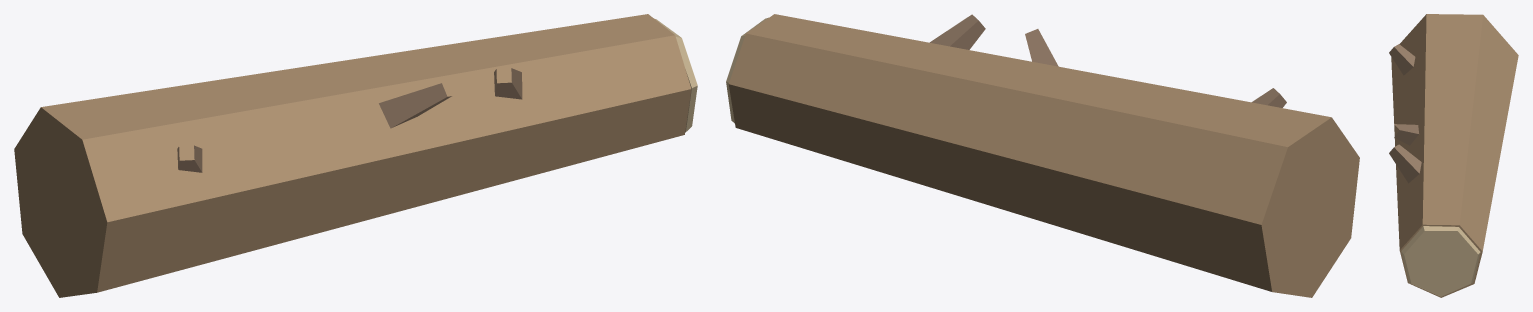
3 views of the same model, side by side, from view 1: azimuth 30°, elevation 25°; view 2: azimuth 150°, elevation 25°; view 3: azimuth 270°, elevation 25° (orthographic). The views are drawn at different scales.
Parts seen in each view (by area): view 1: Body; view 2: Body; view 3: Body.
Boxes of the visible parts, <box> form: Body: <box>14,14,697,297</box>; Body: <box>726,14,1359,297</box>; Body: <box>1389,14,1518,297</box>.
Bounding box in the file's own units: 2.95 × 0.8174 × 0.8566.
